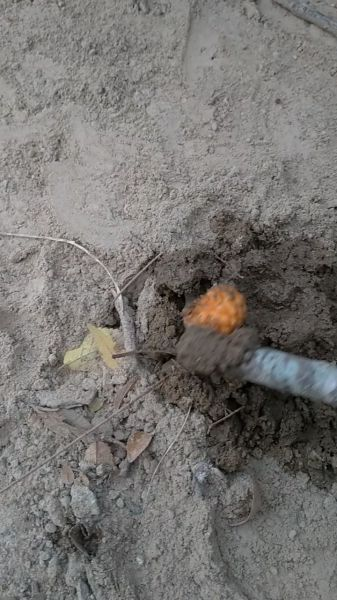eggs: (185, 287, 251, 341)
